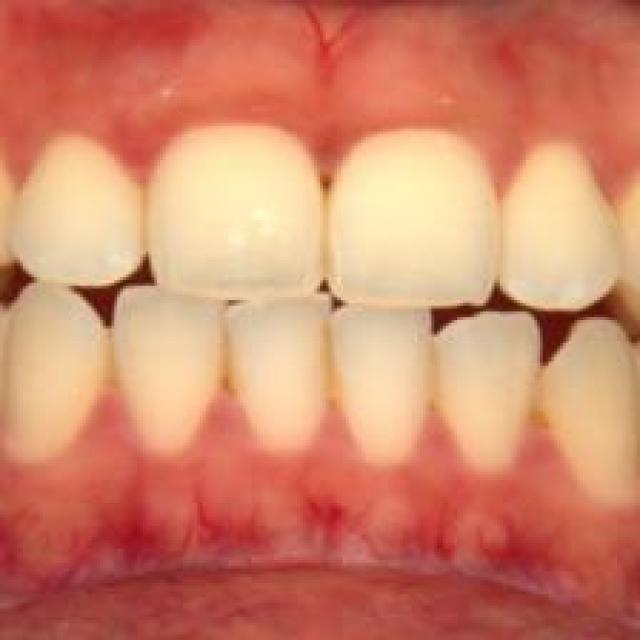cavity: (311, 323, 343, 400), (520, 389, 557, 434), (211, 337, 240, 392), (314, 168, 337, 226)
